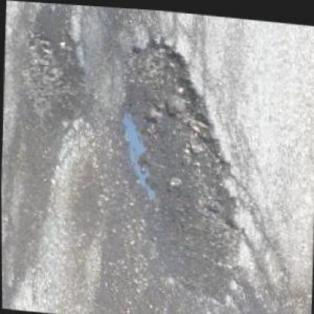Hueco: (113, 36, 250, 302), (16, 20, 90, 126)
